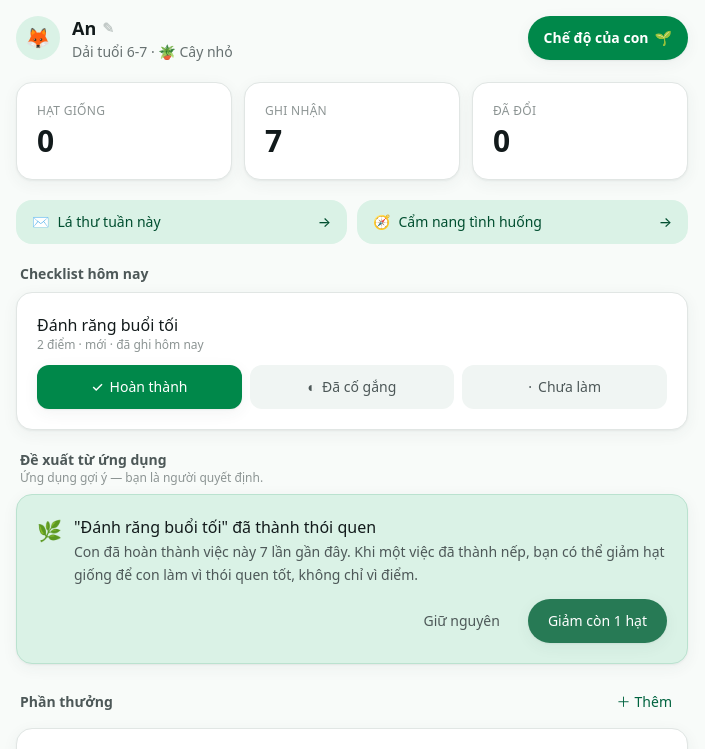
Test: ParentDashboard — parent-confirmed proposals › hides the proposal on decline without changing the item
Check: the text "đã thành thói quen" is shown, box x1=74 y1=516 x2=376 y2=538
Click the button "Giữ nguyên" at (462, 620), box x1=403 y1=598 x2=520 y2=642
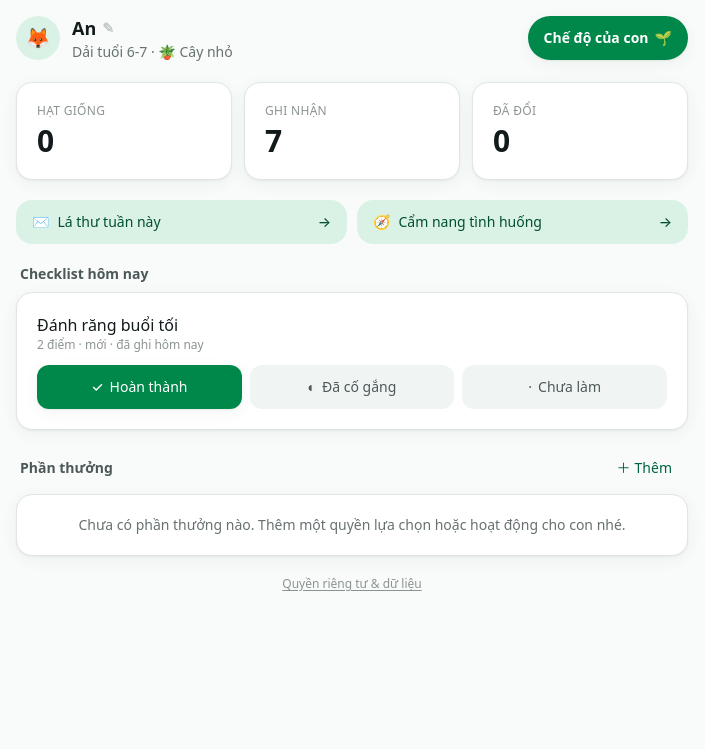
Check: the text "2 điểm · mới · đã ghi hôm nay" is shown, box x1=37 y1=337 x2=204 y2=353
Check: the text "đã thành thói quen" is gone
